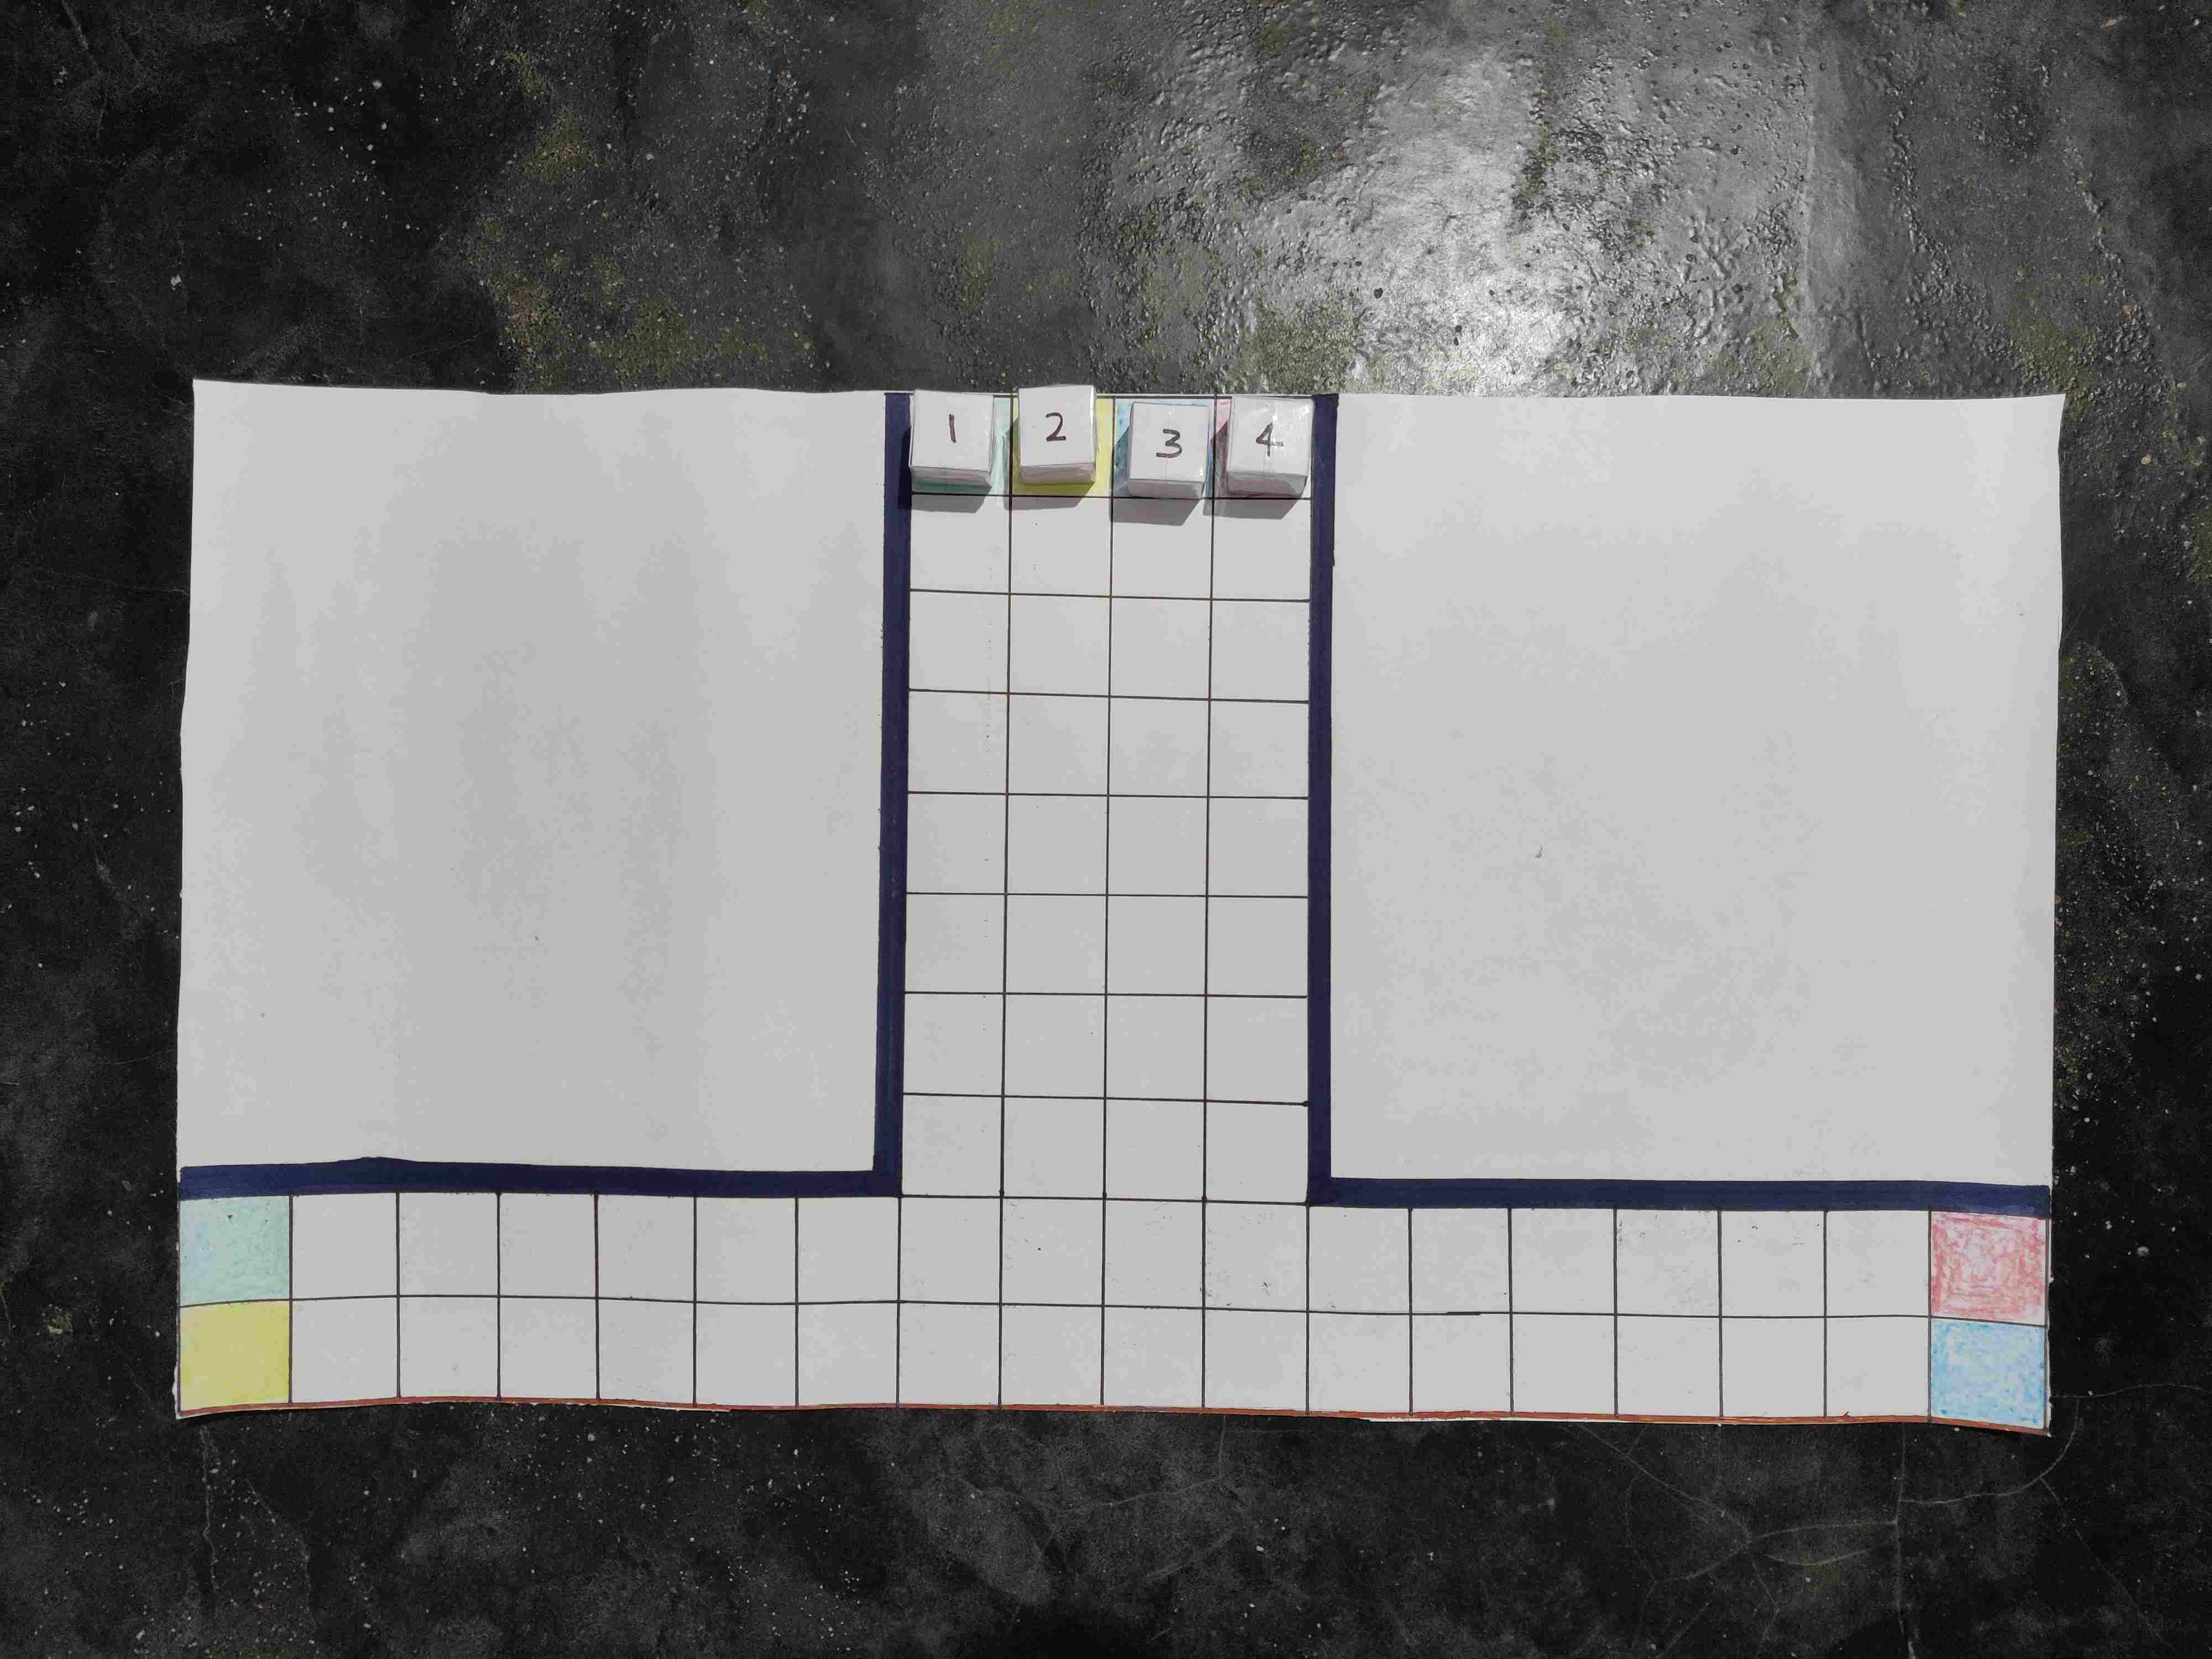arena: (178, 376, 2052, 1422)
bot: (1226, 397, 1315, 477), (1019, 387, 1096, 469), (1130, 403, 1207, 484), (913, 392, 991, 471)
